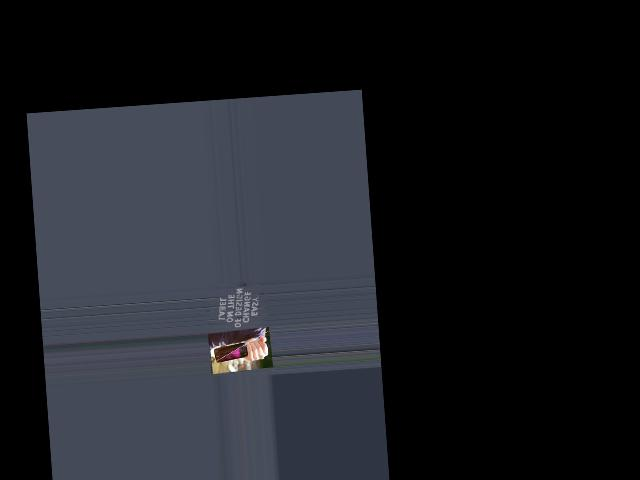beer: (213, 340, 269, 362)
